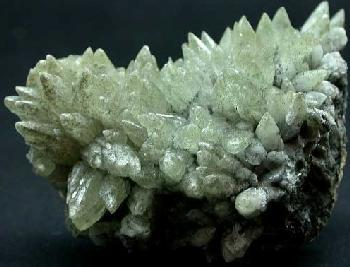calcite: (5, 3, 348, 230)
